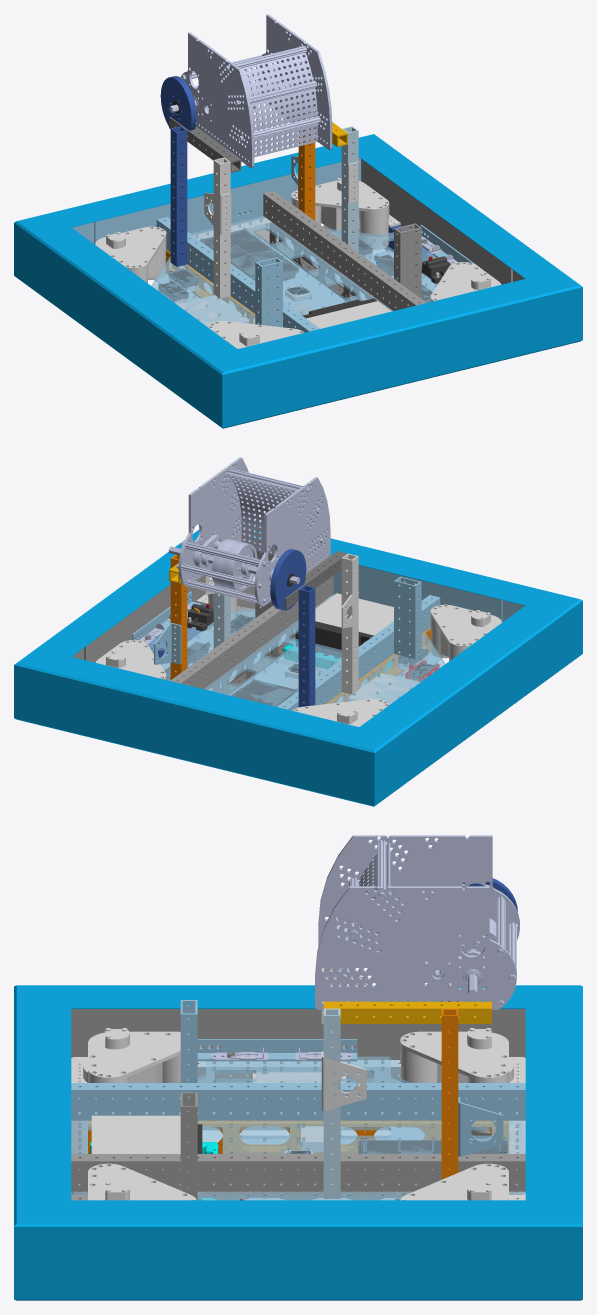
3 views of the same model, one above another, from view 1: azimuth 30°, elevation 25°; view 2: azimuth 150°, elevation 25°; view 3: azimuth 270°, elevation 25° (orthographic). The views are drawn at different scales.
Visible parts, largest first — view 1: Fabric, TopBelly, Block MK4i (×4), am-5779 Launcher in a Box Side Plate (×2), Tube 2"x1"x27" (×2), Tube 1"x1"x12" (×4), am-5796 Launcher in a Box Hood Plate Example, BoardB, BoardL, Tube 2"x1"x6.5" (×2), Tube 2"x1"x25" (×2), Simplified PDH (+10 smaller); view 2: Fabric, TopBelly, am-5779 Launcher in a Box Side Plate (×2), Tube 2"x1"x27" (×2), Tube 1"x1"x12" (×4), Block MK4i (×4), BoardF, Robot Battery, Tube 2"x1"x25" (×2), am-5796 Launcher in a Box Hood Plate Example, BoardL, Tube 2"x1"x6.5" (+11 smaller); view 3: Fabric, am-5779 Launcher in a Box Side Plate (×2), Tube 2"x1"x27" (×2), Block MK4i (×4), TopBelly, BoardR, Tube 1"x1"x12" (×2), Tube 2"x1"x25" (×2), Tube 2"x1"x18.5" (×3), Robot Battery, Tube 1"x1"x10", Tube 2"x1"x6.5" (×2) (+7 smaller).
Boxes of the visible parts, x1,y1,x2,y2 form: Fabric: (14, 134, 582, 428); TopBelly: (151, 216, 438, 326); Block MK4i (×4): (95, 178, 501, 348); am-5779 Launcher in a Box Side Plate (×2): (180, 14, 332, 167); Tube 2"x1"x27" (×2): (156, 191, 426, 332); Tube 1"x1"x12" (×4): (170, 126, 358, 298); am-5796 Launcher in a Box Hood Plate Example: (240, 52, 317, 157); BoardB: (72, 157, 361, 244); BoardL: (362, 159, 524, 284); Tube 2"x1"x6.5" (×2): (255, 223, 421, 327); Tube 2"x1"x25" (×2): (166, 222, 392, 323); Simplified PDH: (200, 230, 298, 280); Fabric: (14, 520, 582, 806); TopBelly: (148, 594, 445, 706); am-5779 Launcher in a Box Side Plate (×2): (178, 457, 330, 606); Tube 2"x1"x27" (×2): (170, 575, 440, 710); Tube 1"x1"x12" (×4): (170, 553, 358, 707); Block MK4i (×4): (95, 574, 501, 726); BoardF: (250, 541, 524, 622); Robot Battery: (295, 593, 393, 658); Tube 2"x1"x25" (×2): (204, 600, 430, 703); am-5796 Launcher in a Box Hood Plate Example: (227, 472, 297, 554); BoardL: (72, 575, 210, 662); Tube 2"x1"x6.5": (394, 576, 421, 658); Fabric: (14, 985, 582, 1300); am-5779 Launcher in a Box Side Plate (×2): (315, 835, 519, 1009); Tube 2"x1"x27" (×2): (71, 1083, 525, 1191); Block MK4i (×4): (71, 1028, 525, 1200); TopBelly: (71, 1056, 525, 1200); BoardR: (71, 1009, 525, 1059); Tube 1"x1"x12" (×2): (323, 1008, 458, 1198); Tube 2"x1"x25" (×2): (88, 1120, 508, 1199); Tube 2"x1"x18.5" (×3): (71, 1060, 525, 1200); Robot Battery: (91, 1115, 202, 1153); Tube 1"x1"x10": (323, 1001, 491, 1023); Tube 2"x1"x6.5" (×2): (180, 1000, 197, 1200).
Size of the model in its own units: 0.8588 by 0.5854 by 0.8588.
